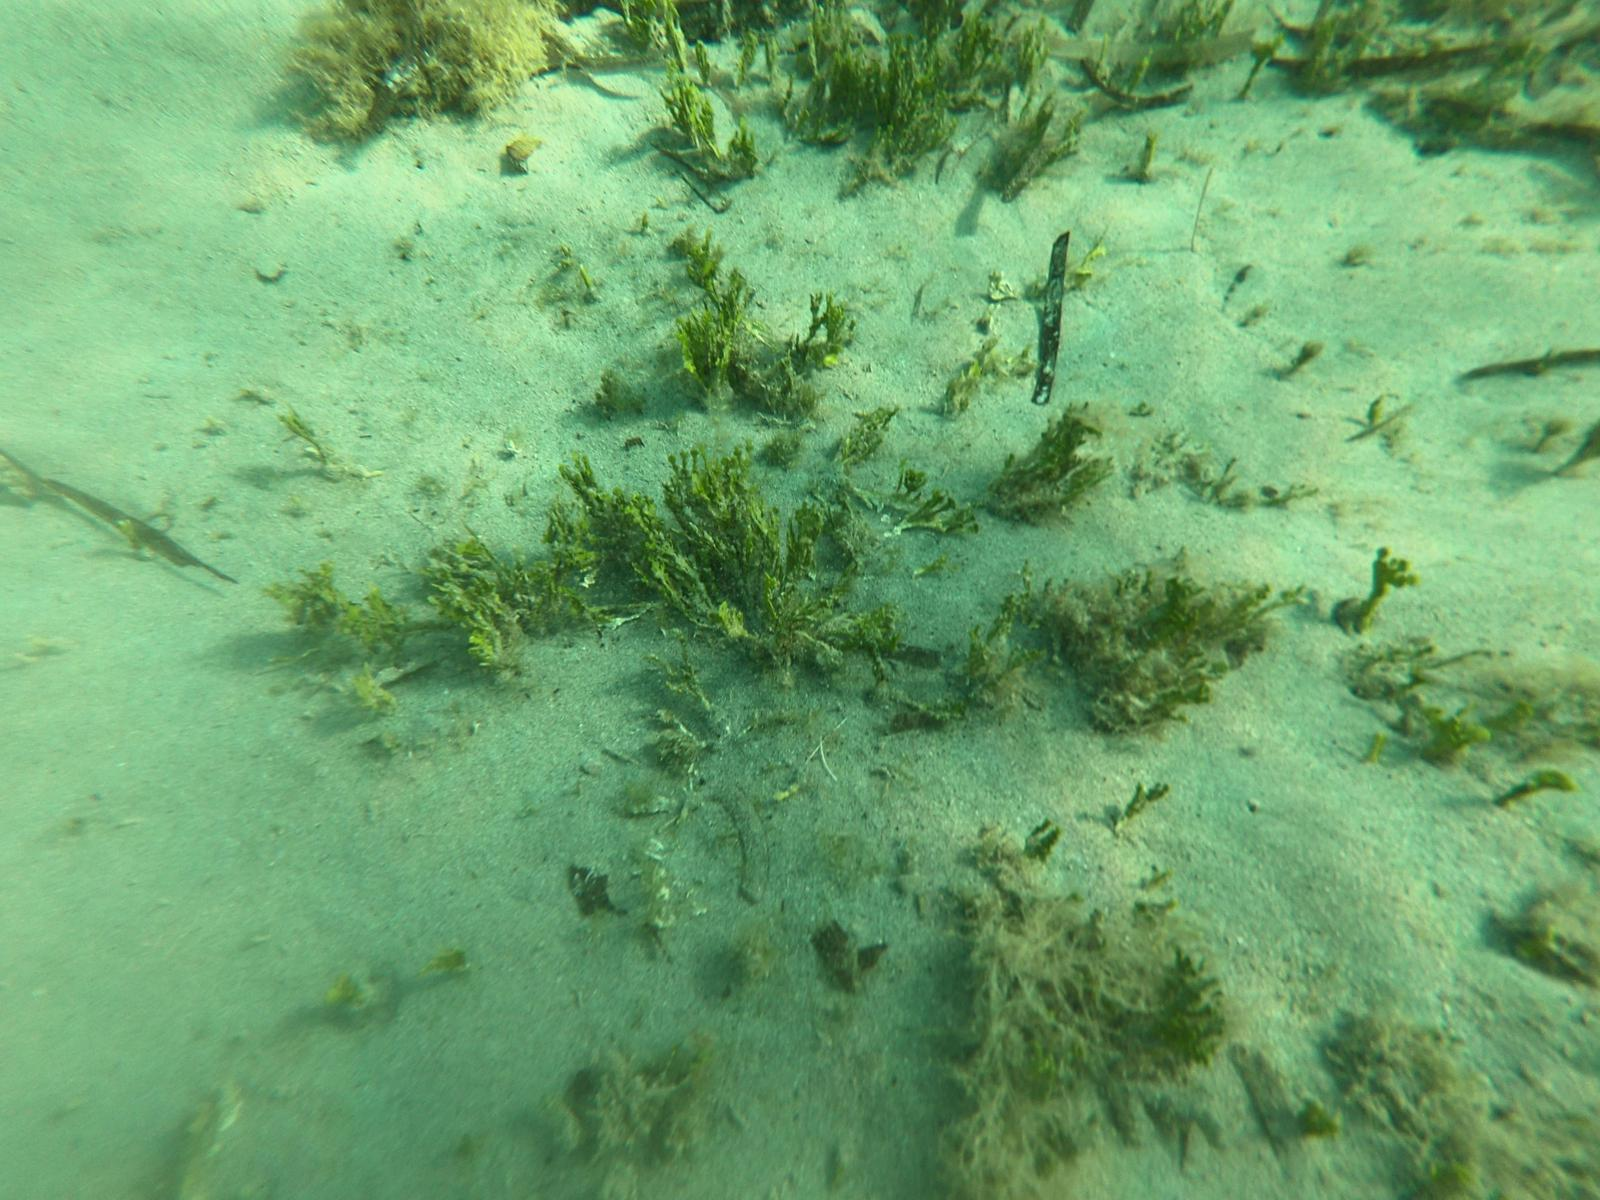halimeda: (658, 447, 824, 642), (426, 529, 511, 667), (564, 463, 671, 572), (878, 26, 959, 159), (496, 558, 614, 645), (803, 10, 879, 136), (682, 282, 743, 397), (963, 601, 1034, 693), (1351, 539, 1417, 630), (1411, 707, 1489, 774), (534, 494, 600, 574), (1209, 582, 1295, 642), (664, 69, 721, 153), (849, 589, 907, 668), (336, 590, 407, 652), (947, 14, 1007, 87), (273, 563, 341, 625), (1148, 577, 1208, 640), (1498, 763, 1574, 808), (806, 291, 850, 363), (661, 653, 711, 711), (682, 232, 729, 291), (278, 411, 330, 465), (1123, 776, 1170, 829), (1010, 21, 1047, 87), (627, 1, 677, 49), (348, 667, 396, 716), (724, 115, 763, 171), (655, 20, 687, 74), (934, 504, 976, 543), (912, 494, 959, 521), (894, 464, 934, 495), (760, 40, 782, 84), (734, 34, 753, 84), (693, 42, 711, 79)
